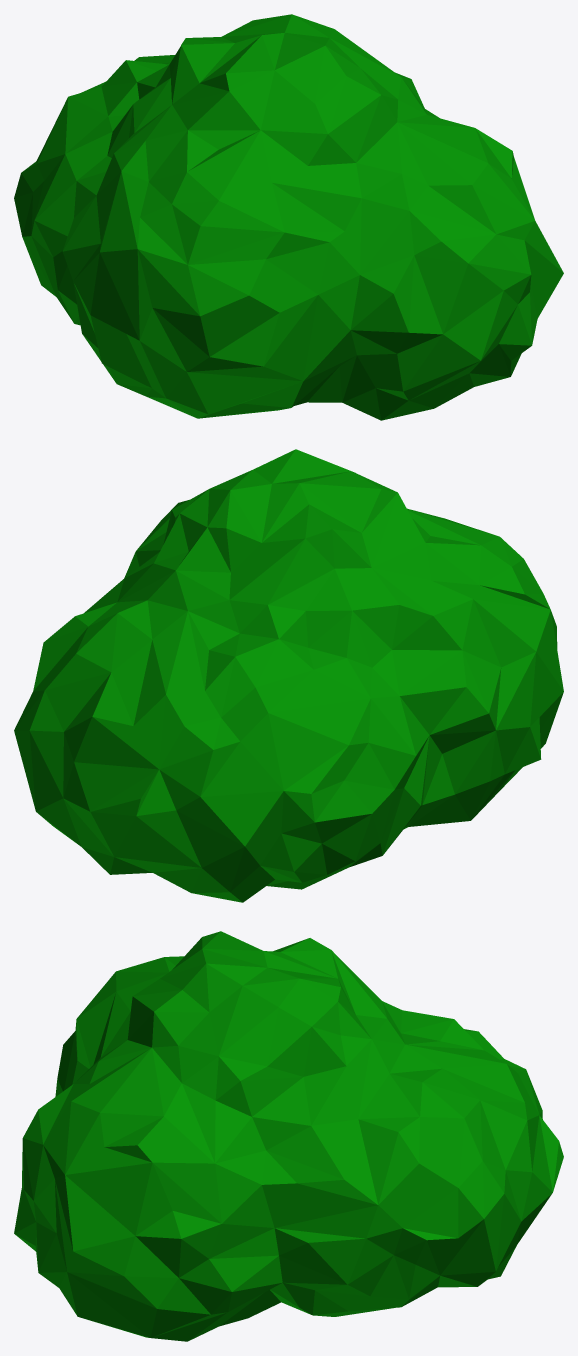
File: Bushes 1.fbx
3 renders of one model, top to bottom at view 1: azimuth 30°, elevation 25°; view 2: azimuth 150°, elevation 25°; view 3: azimuth 270°, elevation 25°, orthographic. The views are drawn at different scales.
Parts seen in each view (by area): view 1: Sphere; view 2: Sphere; view 3: Sphere.
Boxes of the visible parts, box(x1,y1,x2,y2) form: Sphere: box(14, 14, 563, 420); Sphere: box(14, 449, 563, 902); Sphere: box(14, 931, 563, 1341).
Size of the model in its own units: 320 by 259 by 381.
